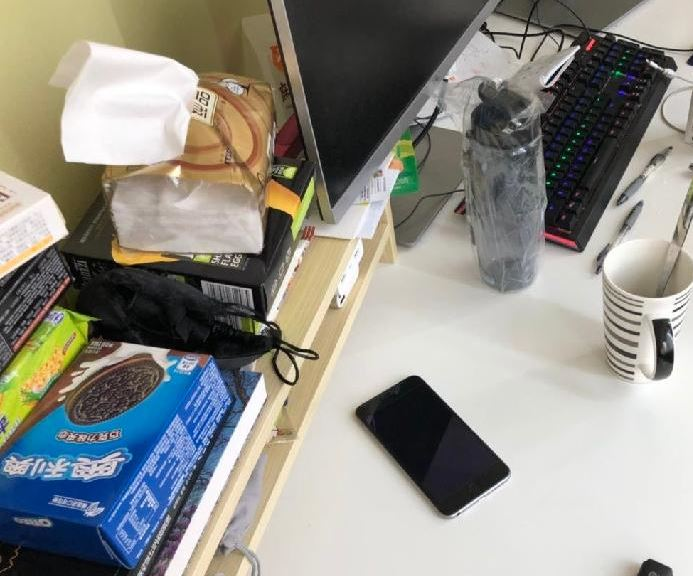mobil: (347, 369, 514, 522)
